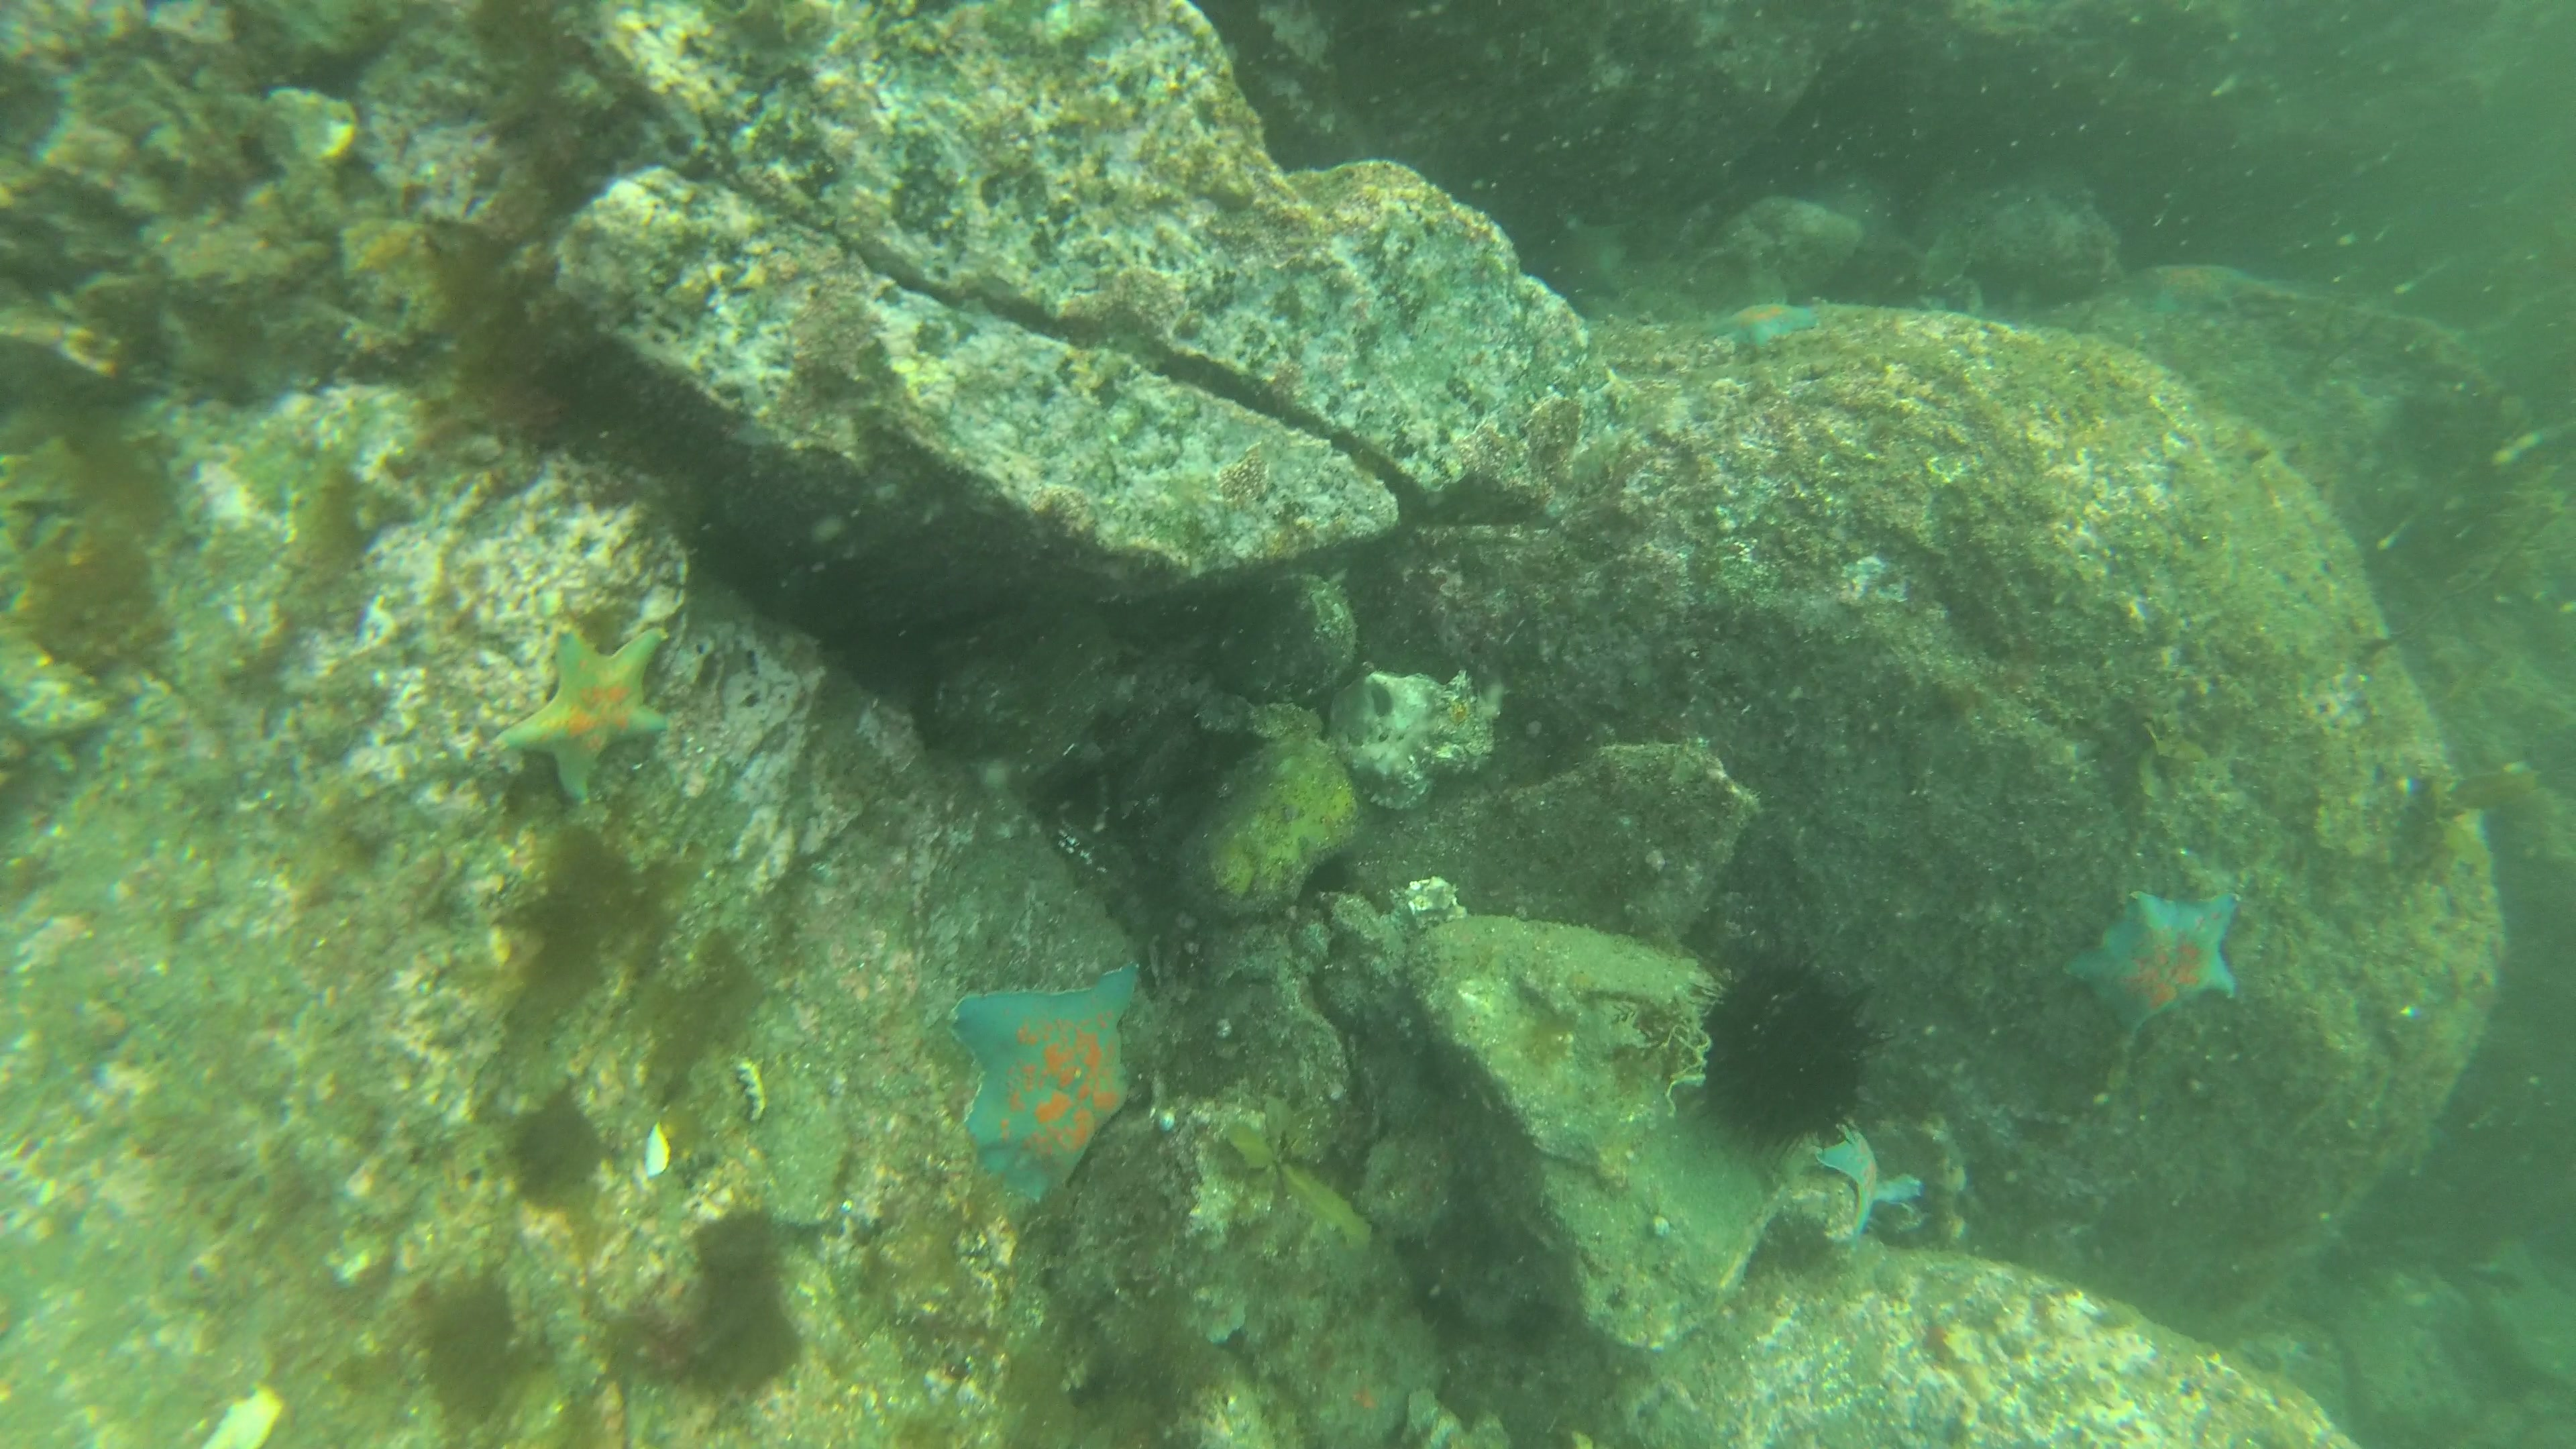echinus: (1697, 959, 1884, 1148)
starfish: (945, 961, 1162, 1205), (490, 633, 678, 807), (2072, 883, 2254, 1044), (1812, 1120, 1923, 1246), (2127, 249, 2250, 322), (1706, 294, 1819, 361)
